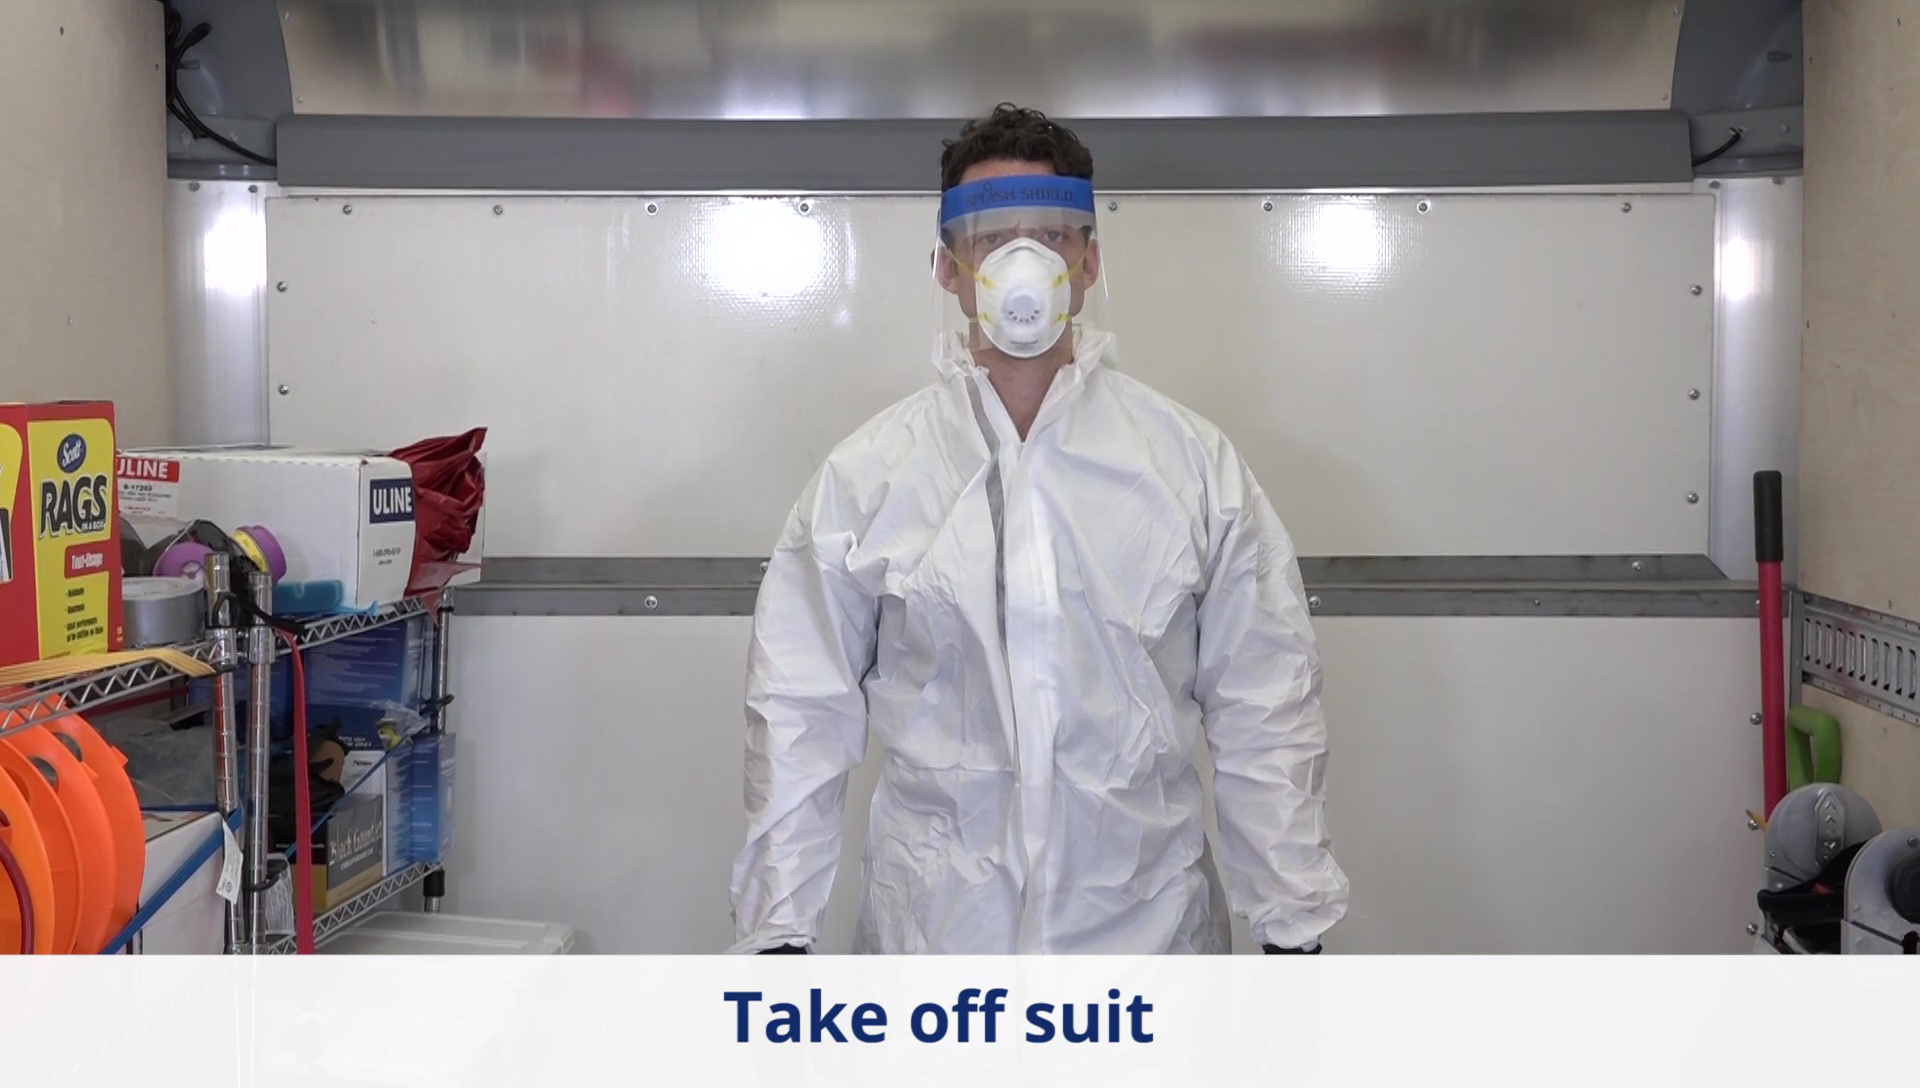Coverall: (726, 342, 1353, 951)
Face_Shield: (923, 173, 1116, 376)
with_mask: (976, 236, 1076, 359)
